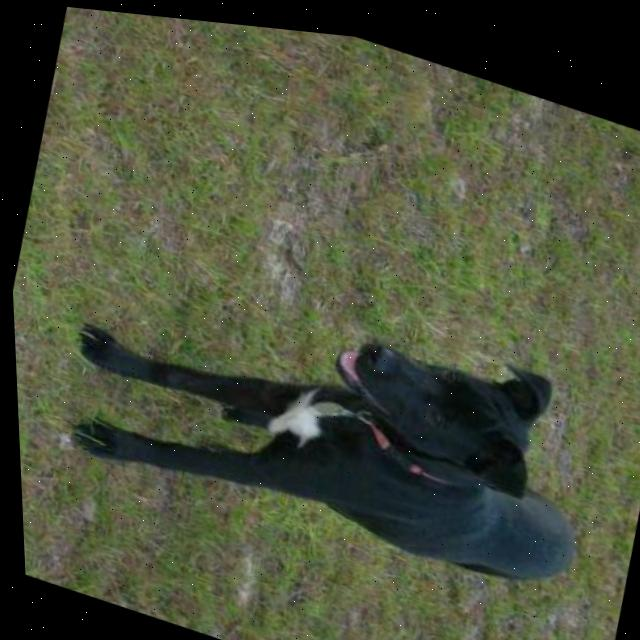dogs: (28, 207, 640, 632)
